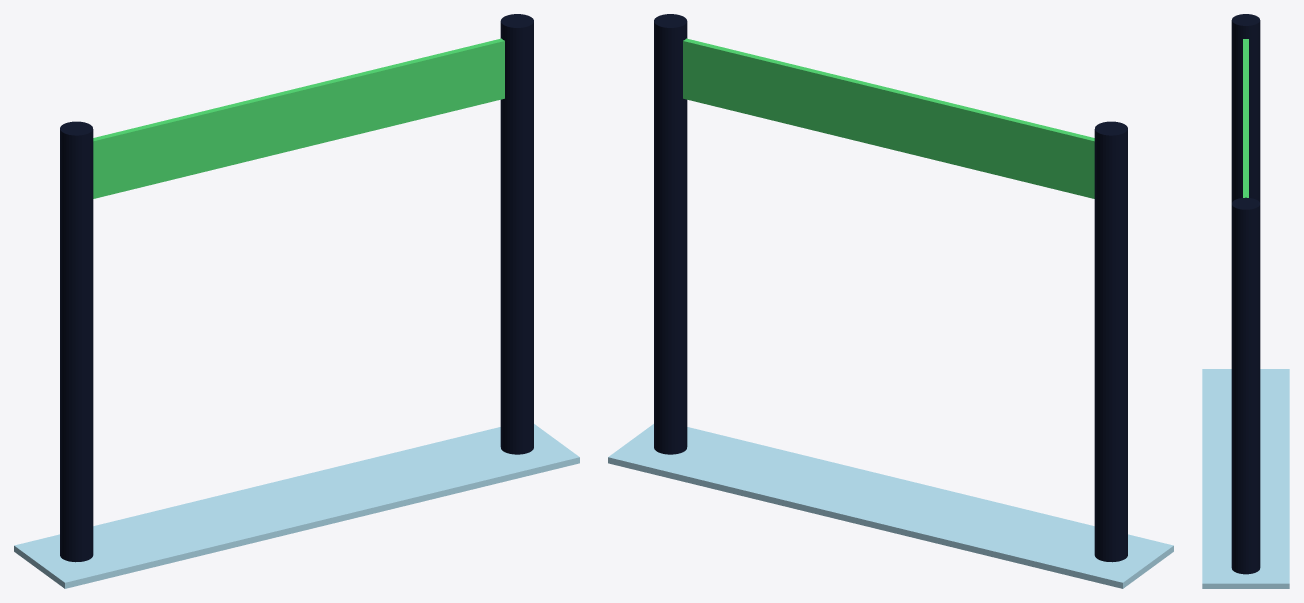
File: goal.fbx
3 renders of one model, left to right at view 1: azimuth 30°, elevation 25°; view 2: azimuth 150°, elevation 25°; view 3: azimuth 270°, elevation 25°, orthographic. The views are drawn at different scales.
Visible parts, largest first — view 1: Posts, Floor, Goal; view 2: Posts, Floor, Goal; view 3: Posts, Floor, Goal.
Part boxes in pixels (x1=…): Posts: x1=60, y1=14, x2=533, y2=562; Floor: x1=14, y1=424, x2=579, y2=588; Goal: x1=93, y1=38, x2=504, y2=198; Posts: x1=654, y1=14, x2=1127, y2=562; Floor: x1=608, y1=424, x2=1173, y2=588; Goal: x1=683, y1=38, x2=1094, y2=198; Posts: x1=1231, y1=14, x2=1260, y2=574; Floor: x1=1202, y1=369, x2=1289, y2=588; Goal: x1=1243, y1=39, x2=1248, y2=197.
Size of the model in its own units: 175 by 141 by 30.
